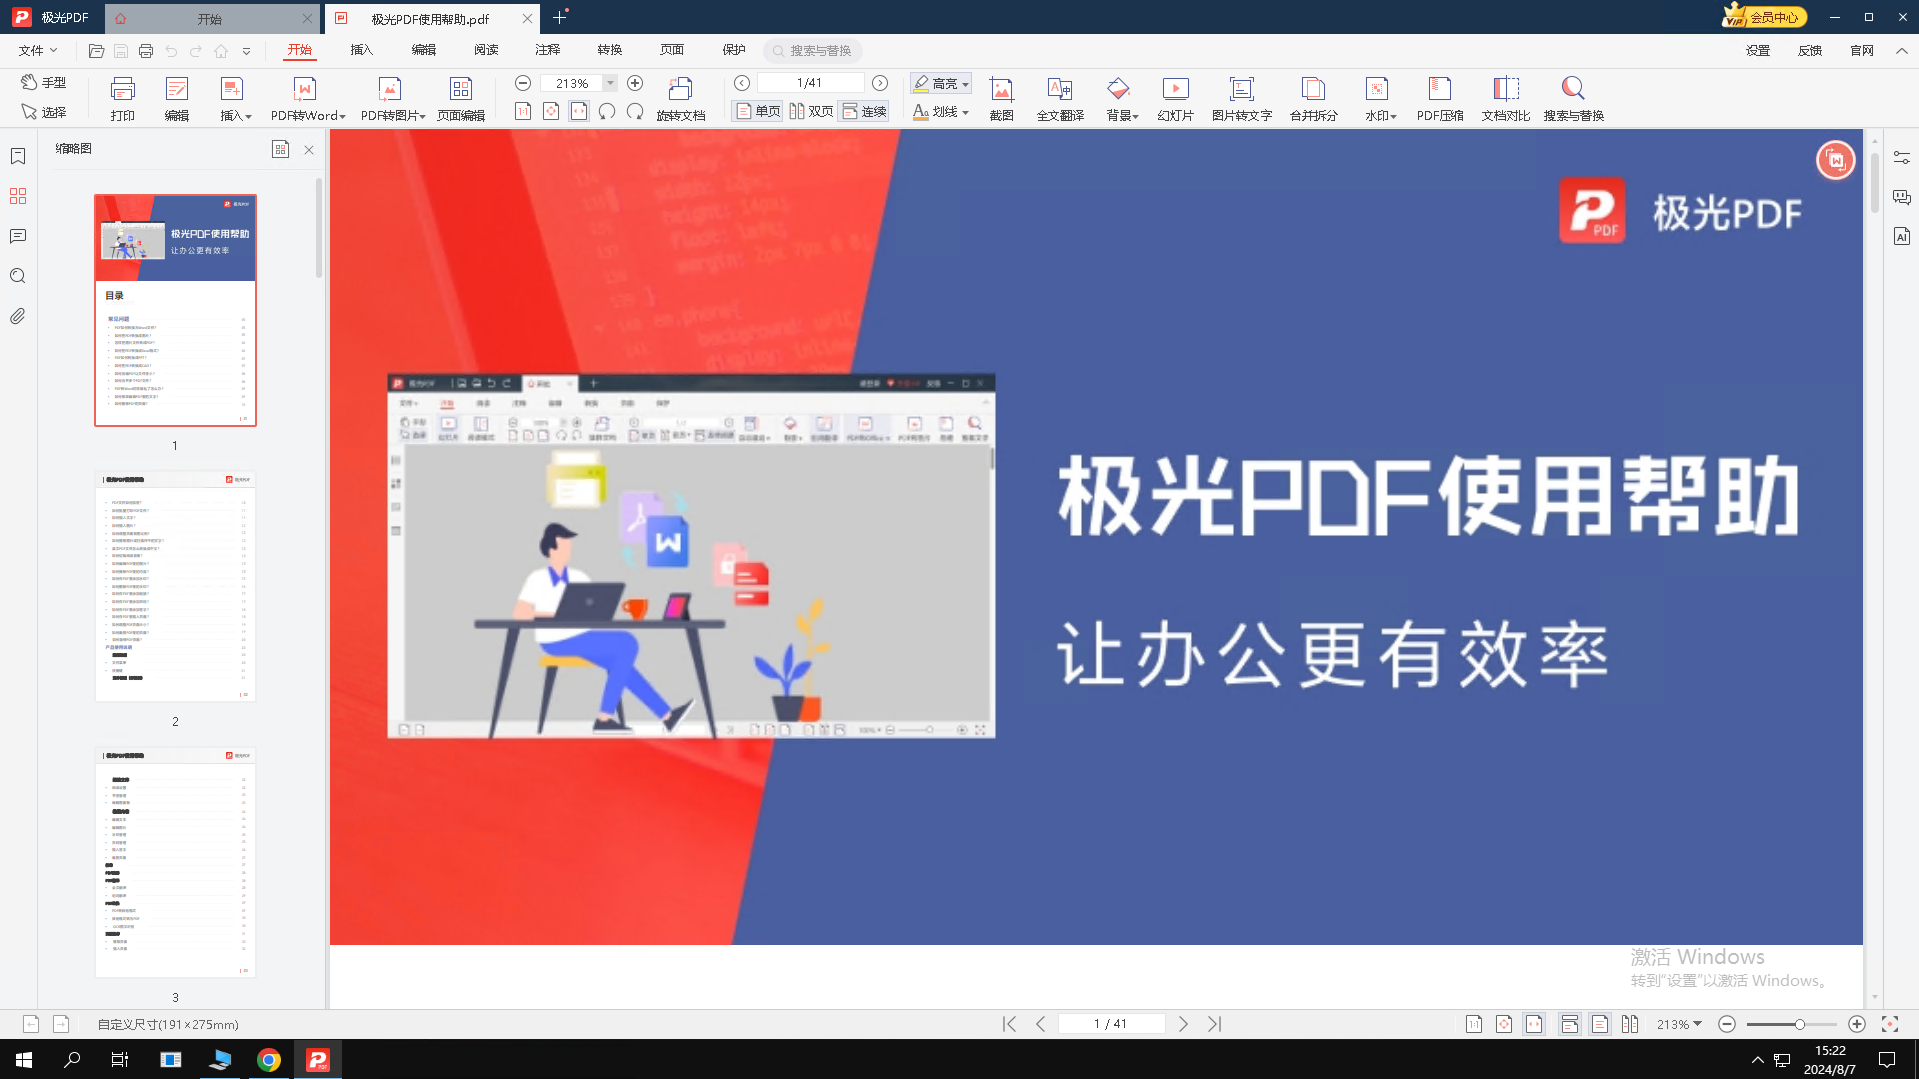Clickable: (84, 726, 272, 991), (80, 184, 269, 445), (87, 458, 273, 711), (3, 175, 40, 213), (1, 213, 33, 252), (3, 298, 34, 336), (1, 260, 36, 292), (3, 136, 32, 171), (297, 134, 322, 173), (265, 138, 293, 159)
Root: (1, 126, 329, 1008)
Scrollable: (307, 169, 331, 1010)
level_0: (1, 126, 40, 1009)
level_0_scrollable: (40, 126, 332, 1009)
